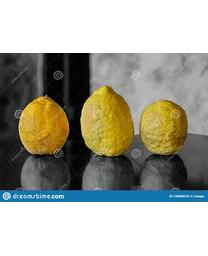lemon: (82, 82, 135, 156), (19, 96, 68, 154), (140, 98, 189, 155)
